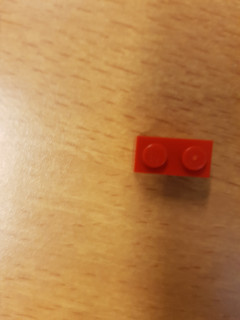1x2 red: (133, 135, 213, 180)
